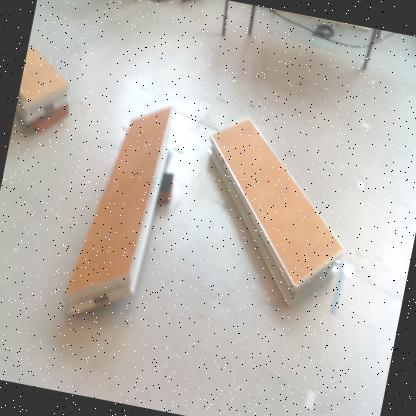Stairs: (208, 117, 349, 307), (63, 107, 176, 319), (17, 45, 69, 125)
